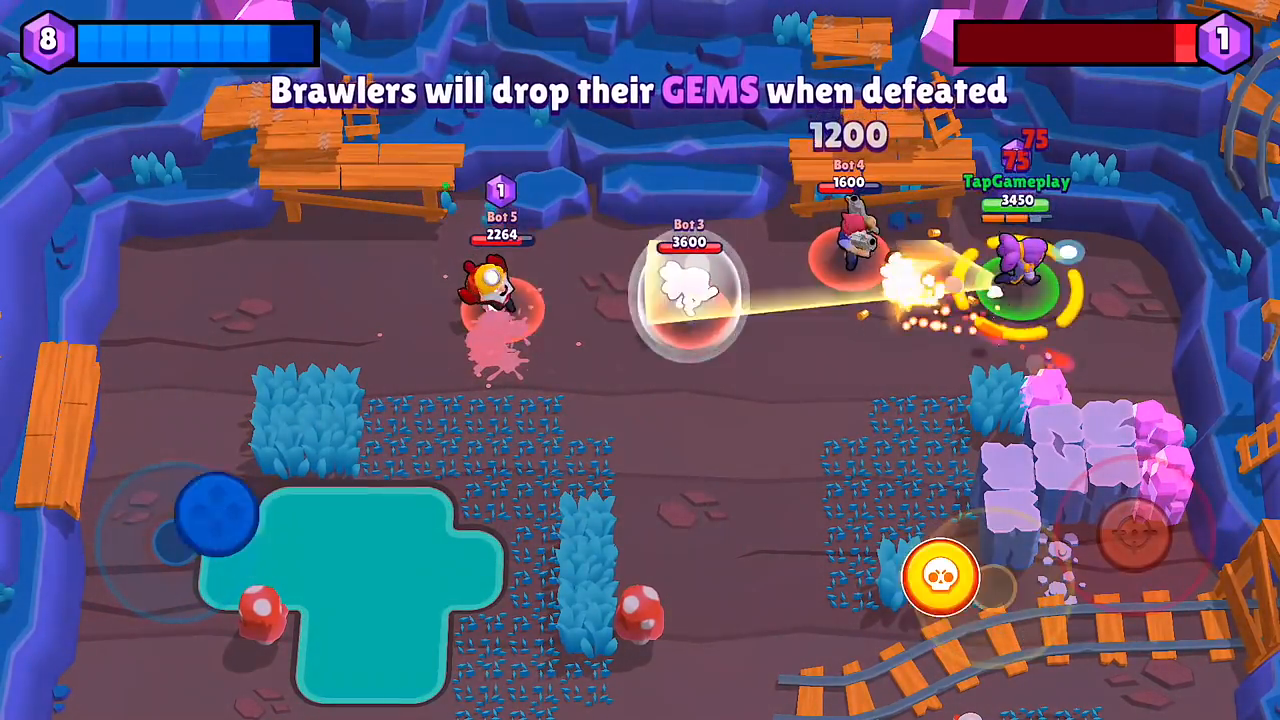move_stick: (180, 475, 263, 560)
red: (781, 162, 904, 296), (631, 221, 737, 348), (466, 220, 534, 353)
